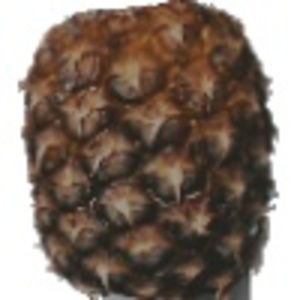abacaxi: (16, 3, 288, 291)
